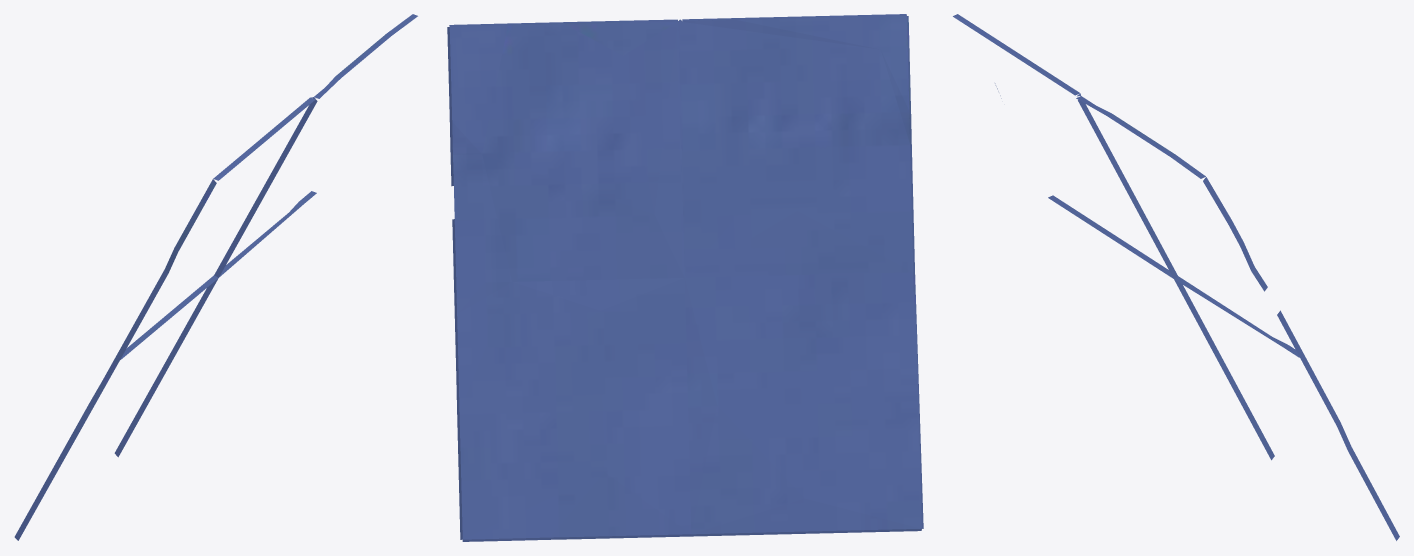
The picture shows the model from 3 angles, left to right: view 1: azimuth 30°, elevation 25°; view 2: azimuth 150°, elevation 25°; view 3: azimuth 270°, elevation 25°; orthographic projection. The views are drawn at different scales.
Bounding box in the file's own units: 39460 × 35388 × 34311.
1 material, 1 textured.
